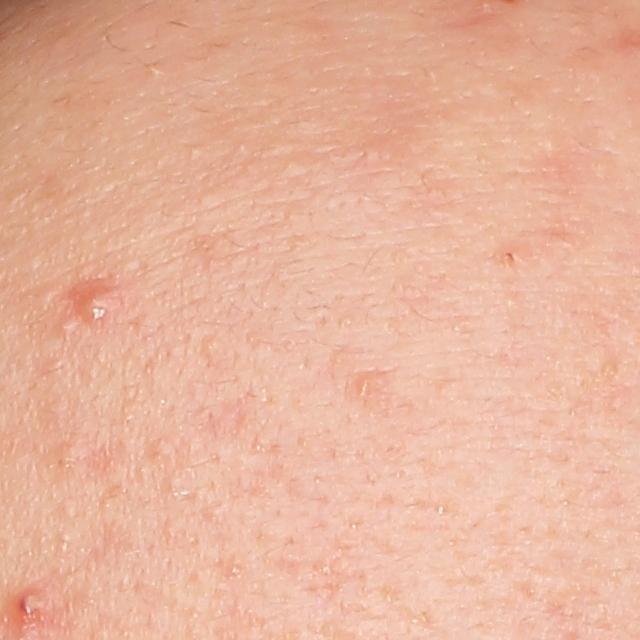comedo: (349, 373, 376, 400), (51, 444, 77, 472), (200, 333, 225, 360), (58, 498, 80, 523), (227, 562, 241, 576)
pustule: (75, 282, 124, 325)
